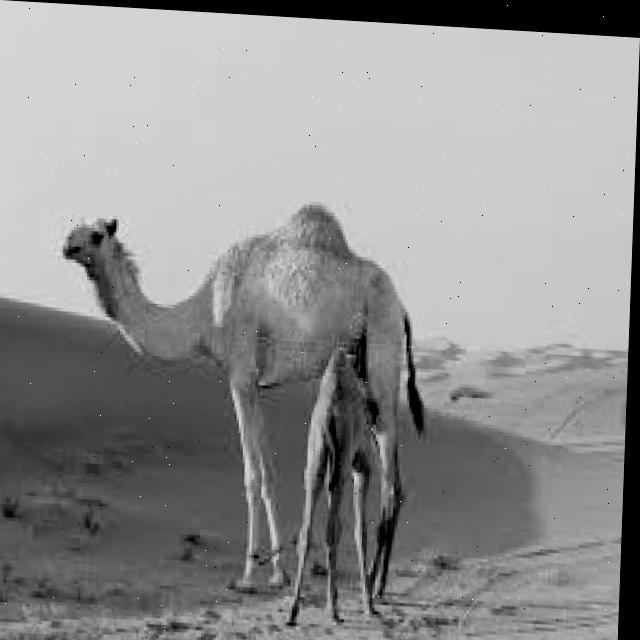Camel: (48, 184, 434, 607), (284, 338, 407, 632)
